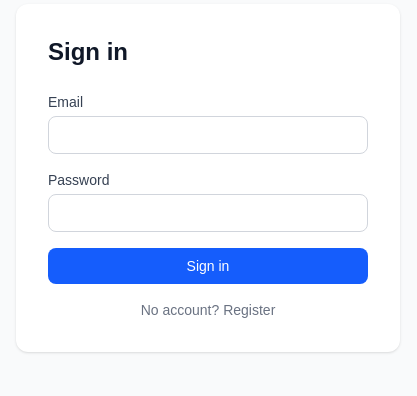
Test: LoginPage › shows an error message when login fails
This screenshot has width=417, height=396.
Type "bad@example.com" into the field with test id "login-form-email-input". click: coordinates (208, 135)
box: [48,116,368,154]
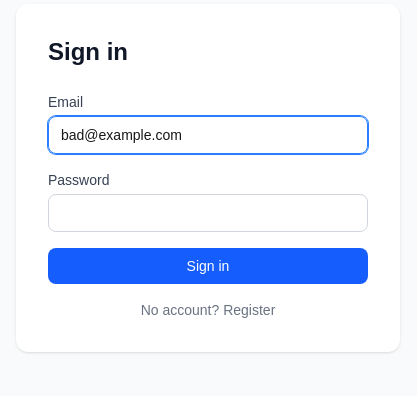
Type "wrongpass" into the password field with test id "login-form-password-input". click: coordinates (208, 213)
box: [48,194,368,232]
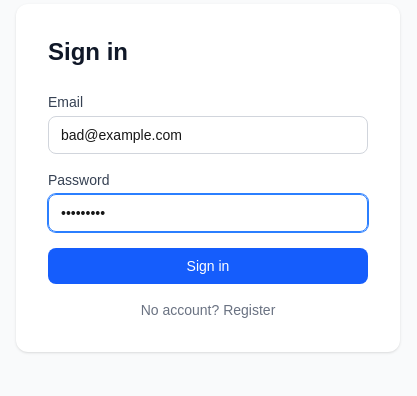
Click the button with test id "login-form-submit-btn". click: coordinates (208, 266)
box: [48,248,368,284]
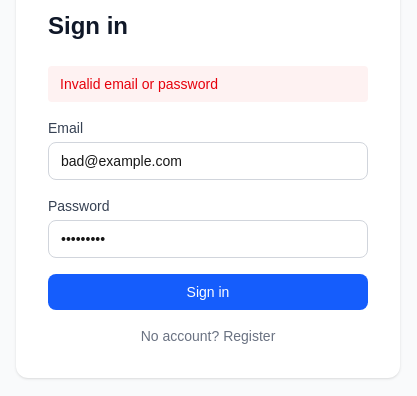
Expected: the text "Invalid email or password" is shown, [48,66,368,102]
